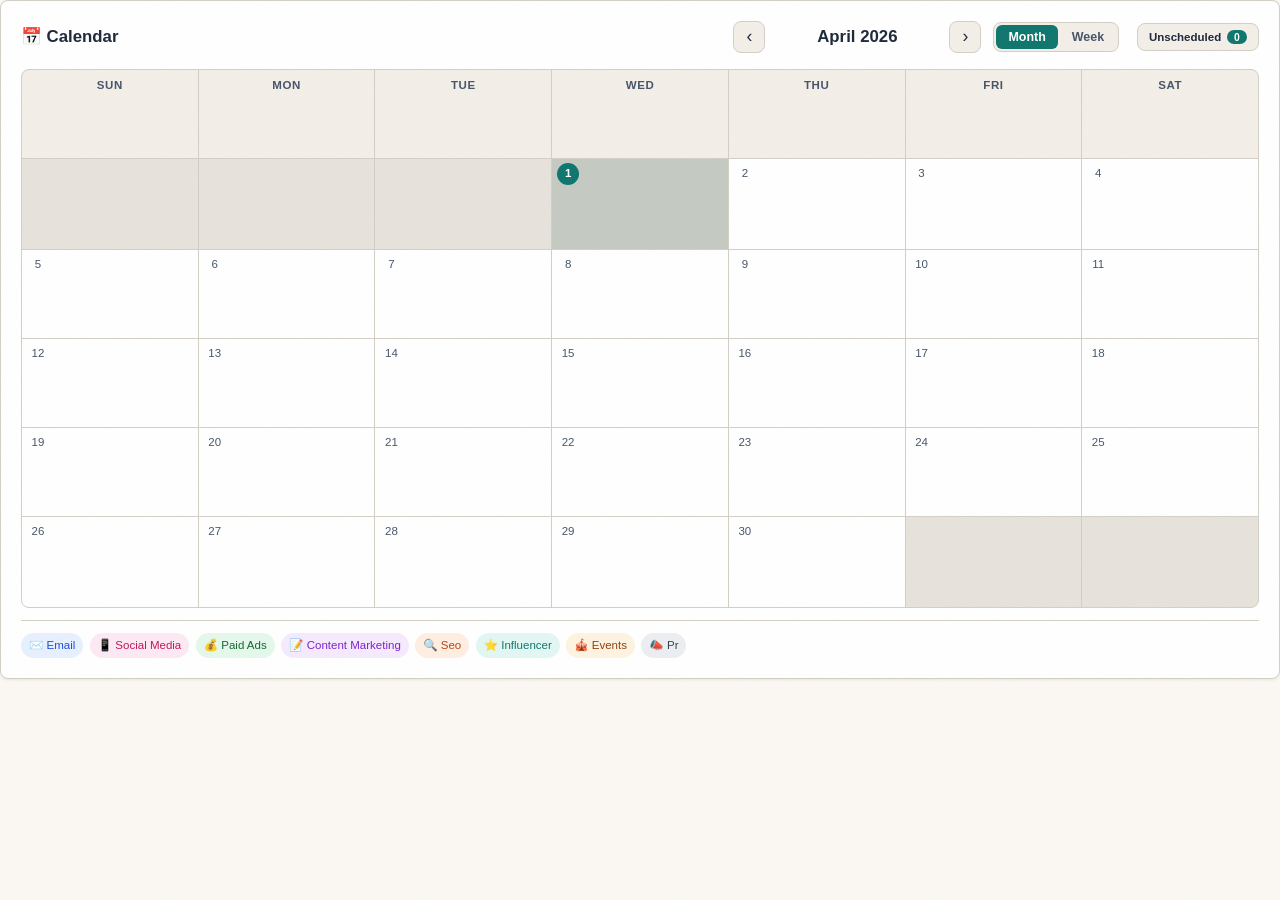
Test: CalendarView – month view navigation › navigates to previous month
This screenshot has width=1280, height=900.
Click the button named "previous month".
click(749, 37)  # box left=733, top=21, right=765, bottom=53
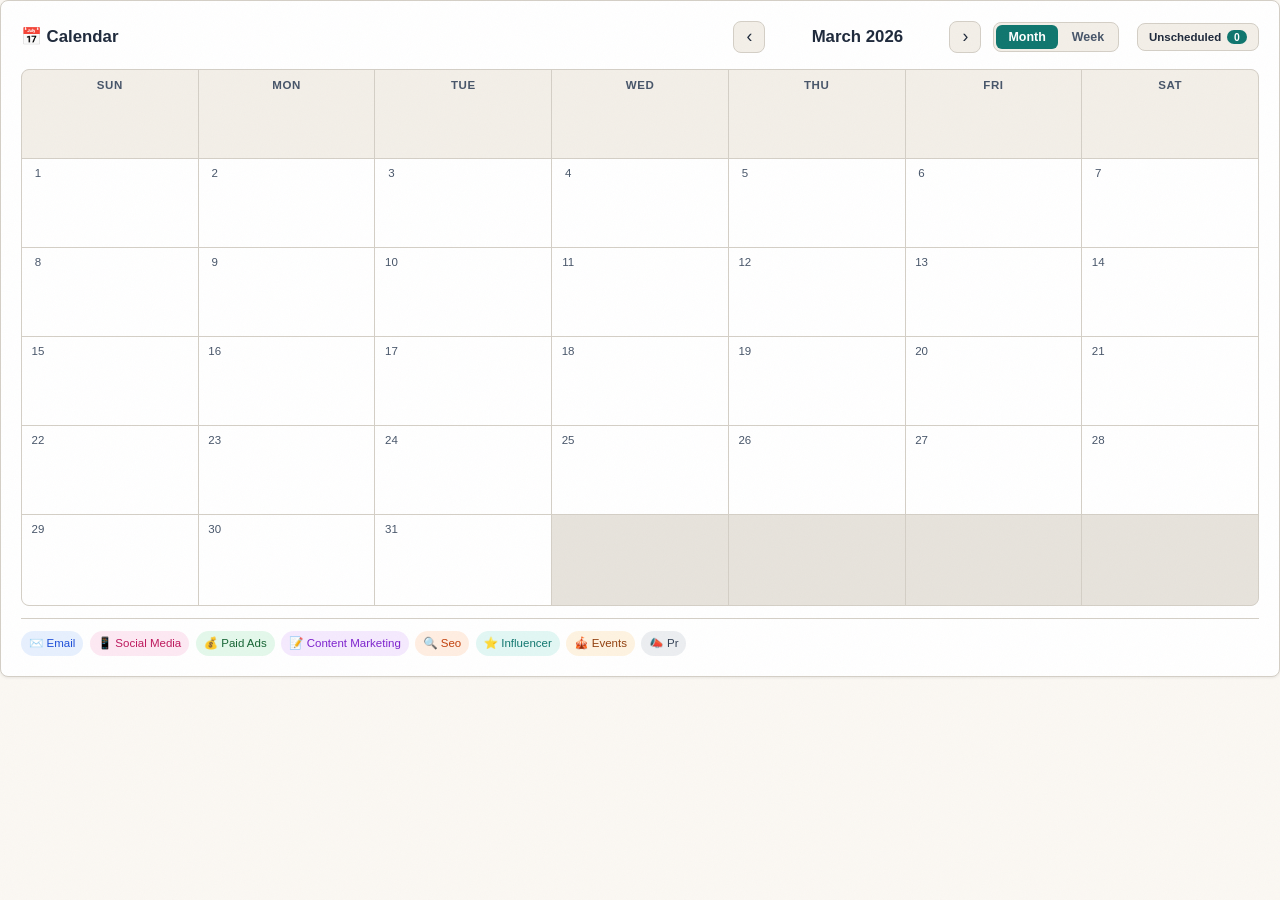
Check: the text "March 2026" is shown, box left=812, top=27, right=903, bottom=46
